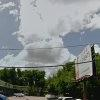Tree: (7, 61, 60, 94)
